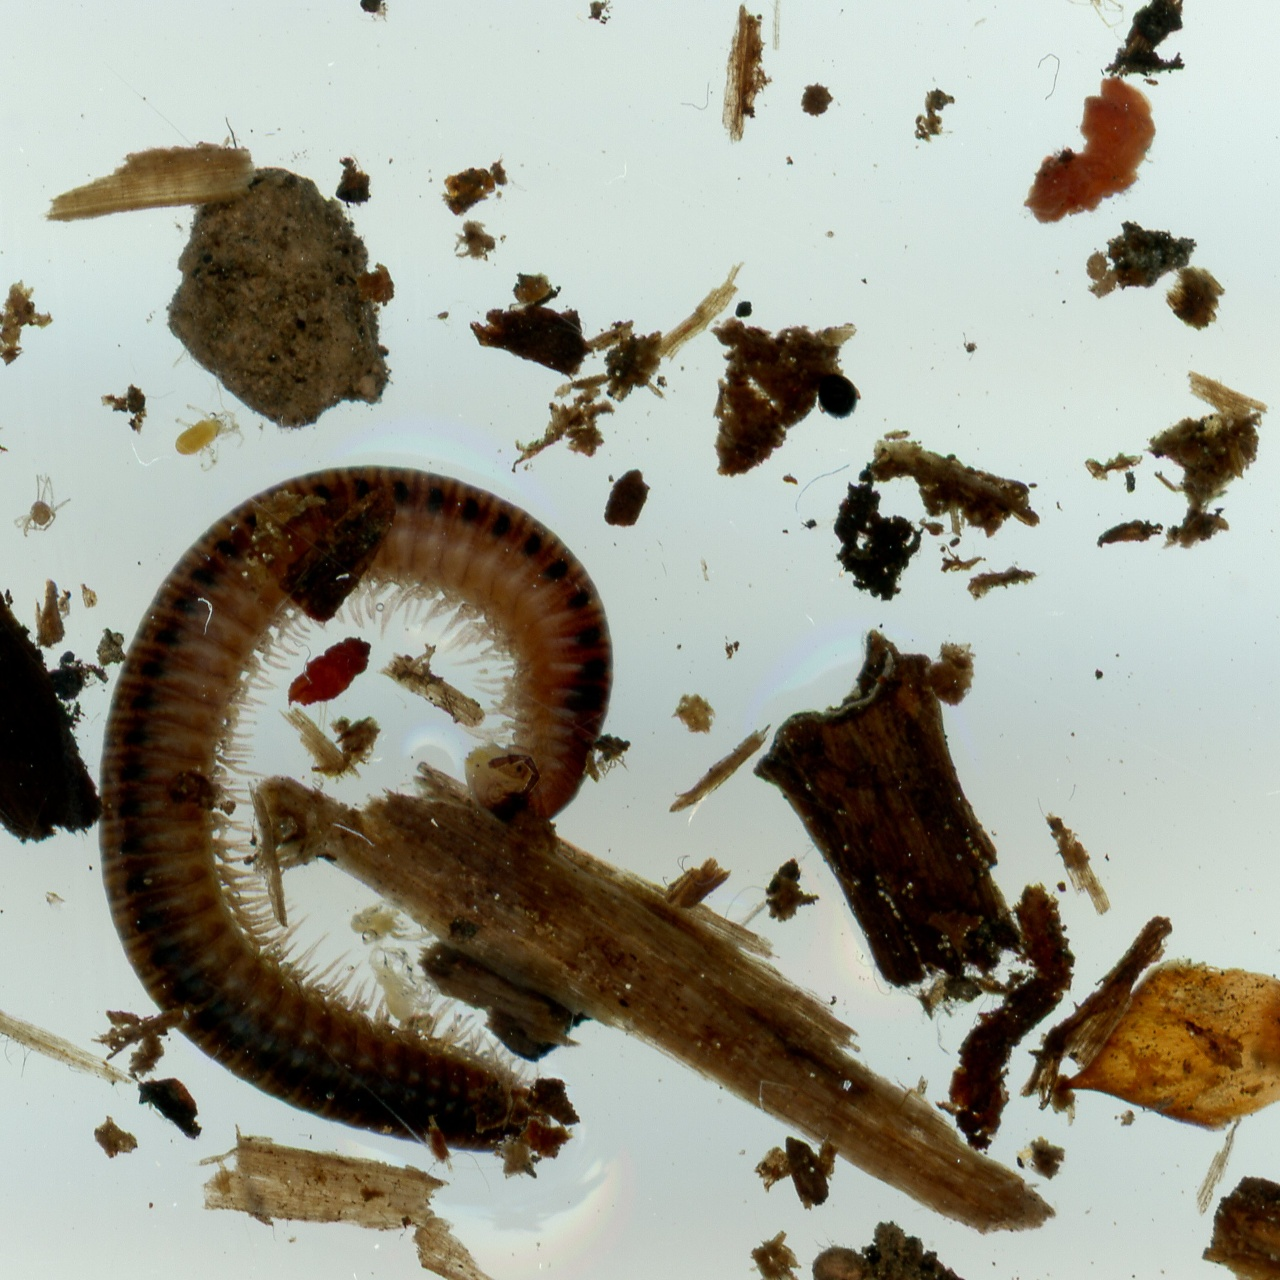arthropod: (88, 452, 624, 1165), (156, 382, 257, 483), (366, 940, 443, 1023), (801, 359, 872, 433), (12, 470, 74, 538), (1050, 0, 1137, 45), (349, 900, 434, 946), (592, 733, 633, 781)
